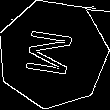M_E: (24, 27, 82, 81)
